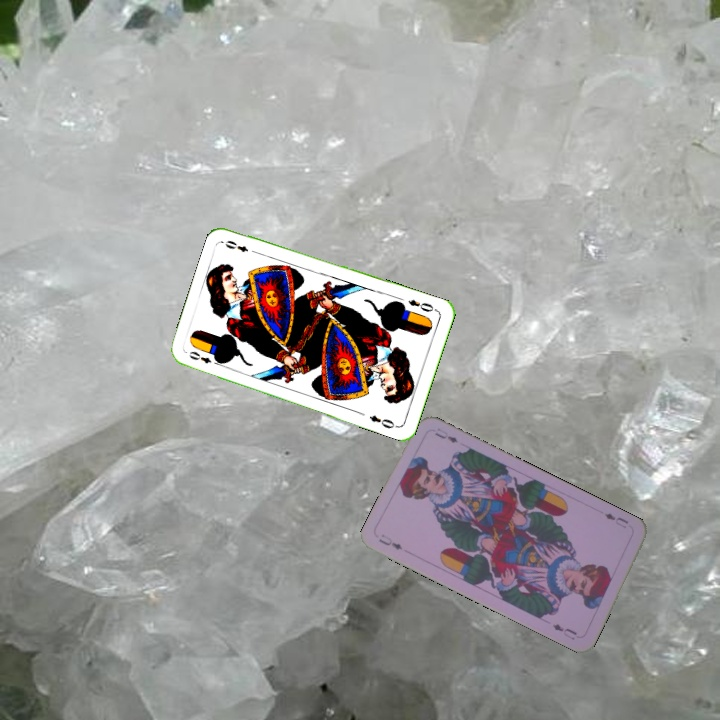EO: (185, 347, 223, 368), (404, 295, 436, 315)
EU: (375, 530, 405, 553), (601, 509, 631, 531)
